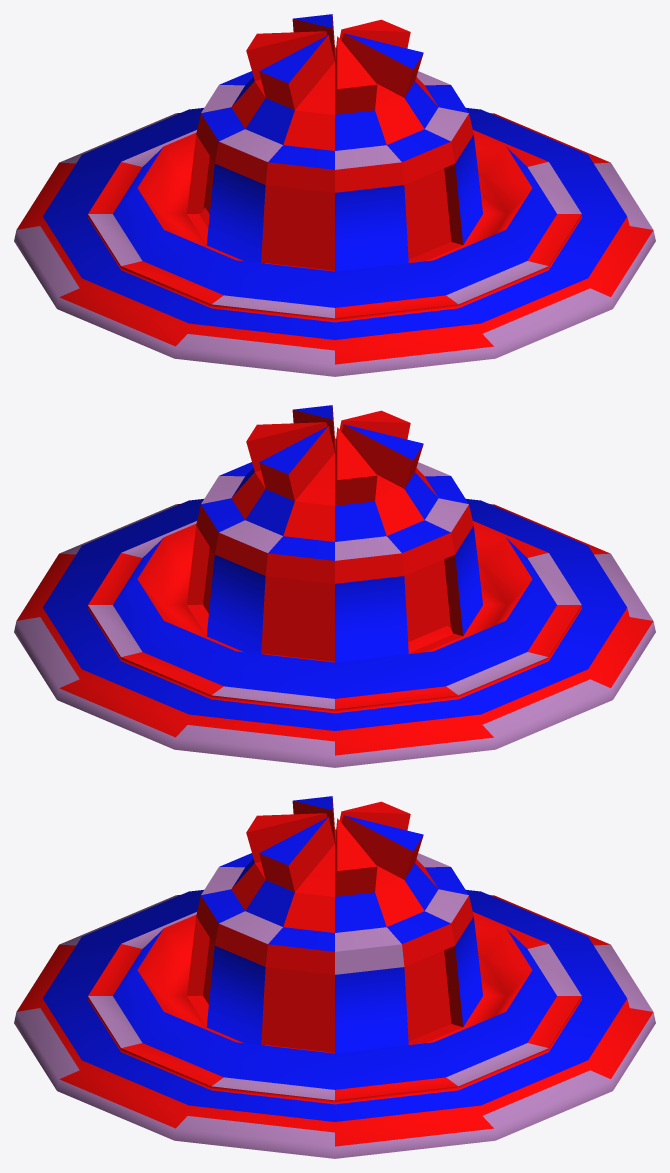
Rendered from AAA.FBX.
3 renders of one model, top to bottom at view 1: azimuth 30°, elevation 25°; view 2: azimuth 150°, elevation 25°; view 3: azimuth 270°, elevation 25°, orthographic.
Parts seen in each view (by area): view 1: Cylinder001; view 2: Cylinder001; view 3: Cylinder001.
Part boxes in pixels (x1,y1,x2,y2): Cylinder001: (14, 14, 655, 376); Cylinder001: (14, 405, 655, 767); Cylinder001: (14, 796, 655, 1158).
Size of the model in its own units: 191 by 76.13 by 191.
